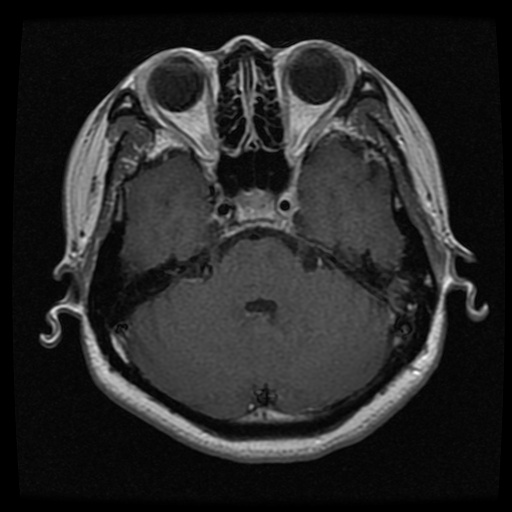pituitary: (234, 190, 276, 221)
